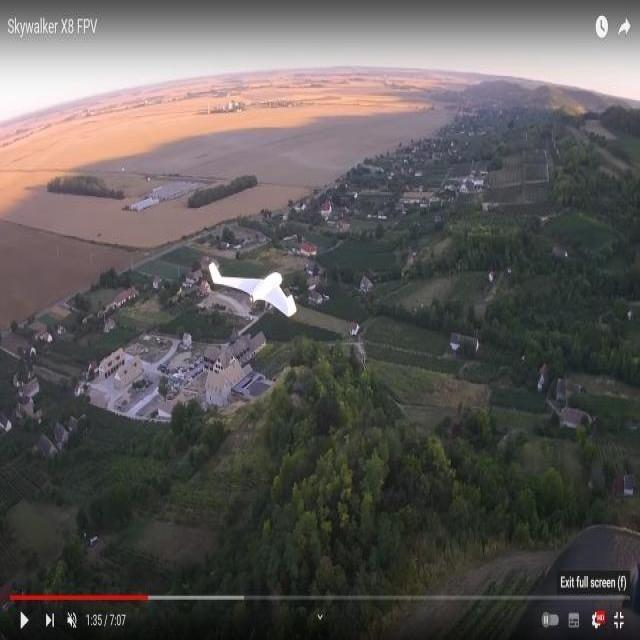Airplane: (206, 254, 300, 326)
